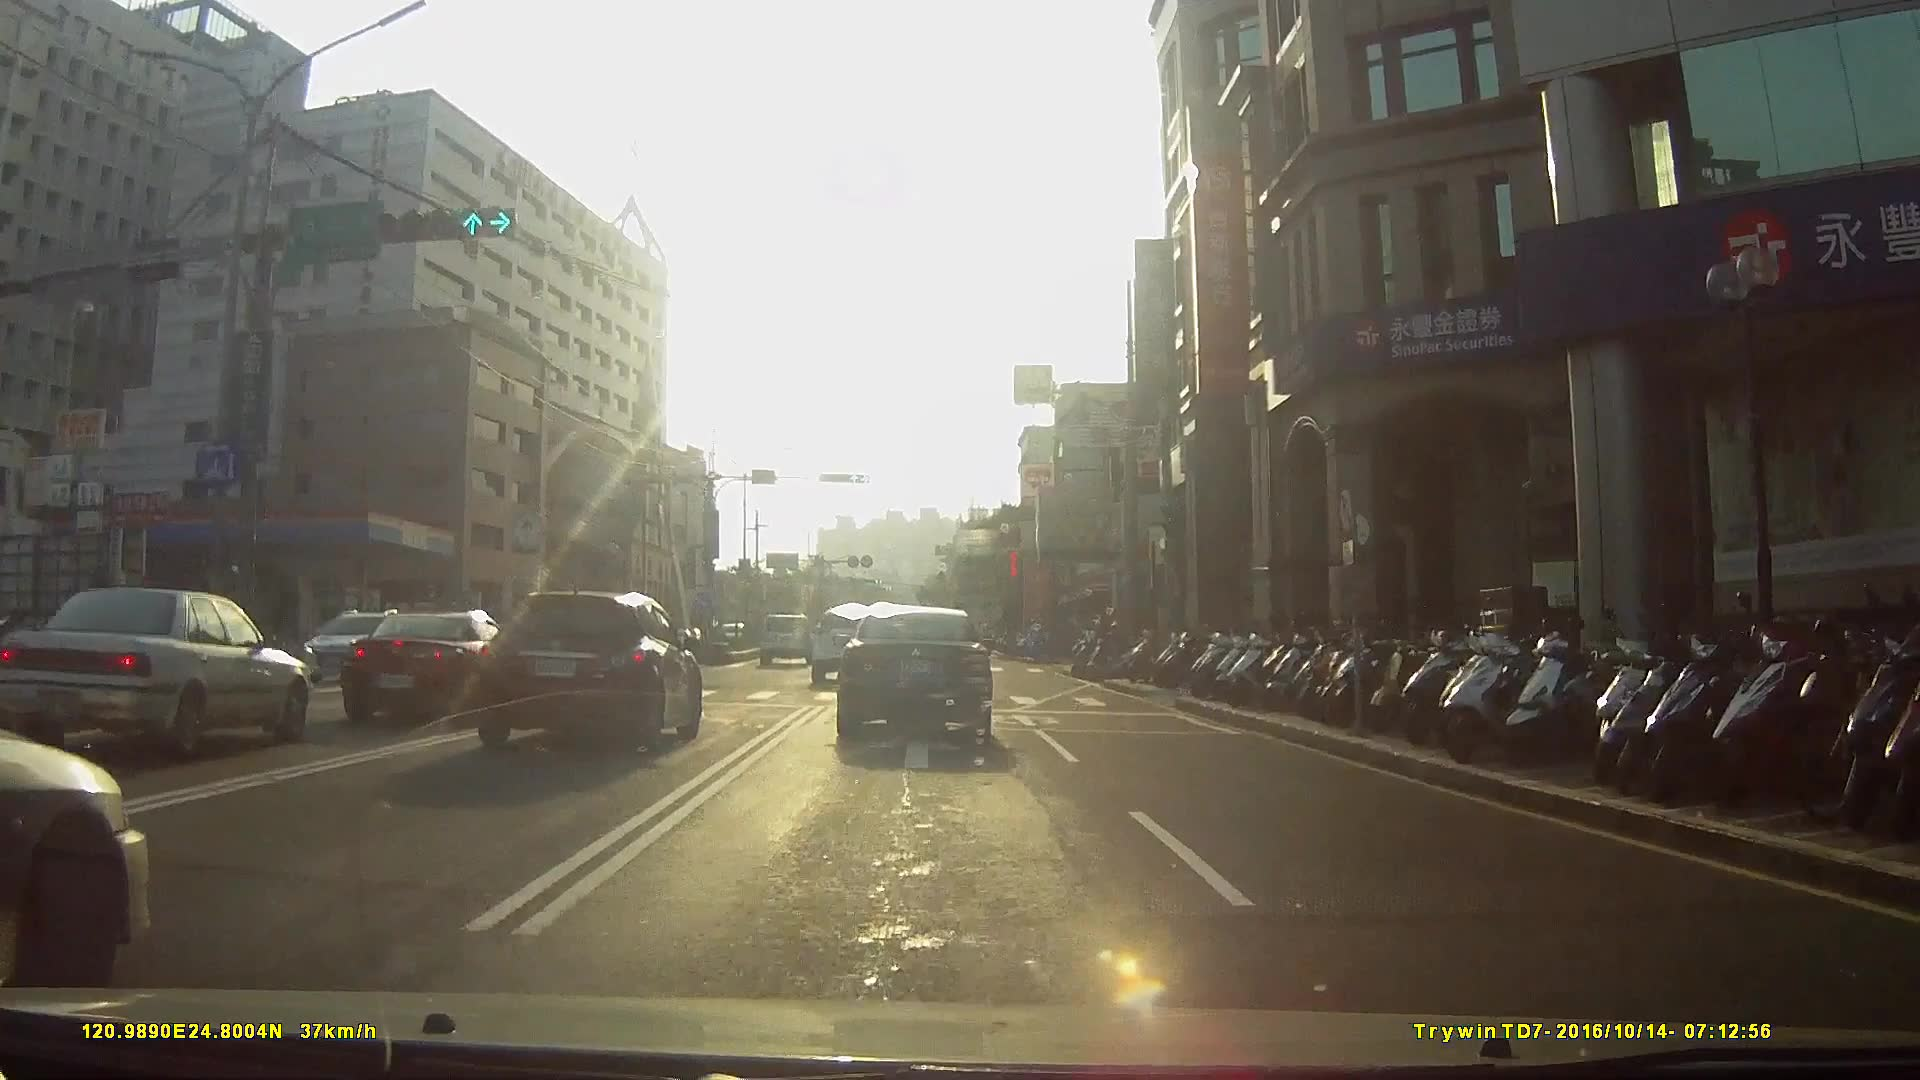rider: (1084, 621, 1151, 680)
vehicle: (1, 582, 324, 759), (461, 581, 714, 759), (327, 604, 544, 736), (832, 605, 1003, 745), (295, 607, 424, 683), (808, 606, 887, 690), (759, 611, 818, 666)
